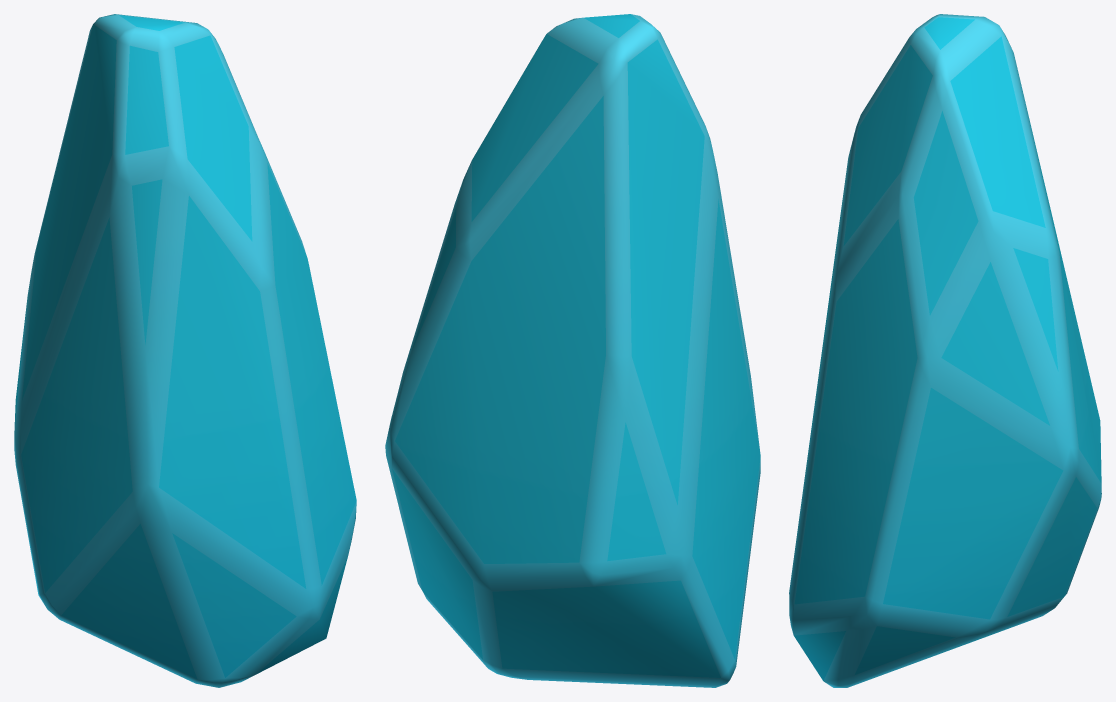
The model's file is ice_017.fbx.
3 views of the same model, side by side, from view 1: azimuth 30°, elevation 25°; view 2: azimuth 150°, elevation 25°; view 3: azimuth 270°, elevation 25° (orthographic). The views are drawn at different scales.
Visible parts, largest first — view 1: ice_017; view 2: ice_017; view 3: ice_017.
Boxes of the visible parts, left/top/right/bottom form: ice_017: left=14, top=14, right=356, bottom=687; ice_017: left=385, top=14, right=760, bottom=687; ice_017: left=789, top=14, right=1101, bottom=687.
Size of the model in its own units: 197 by 194 by 429.
